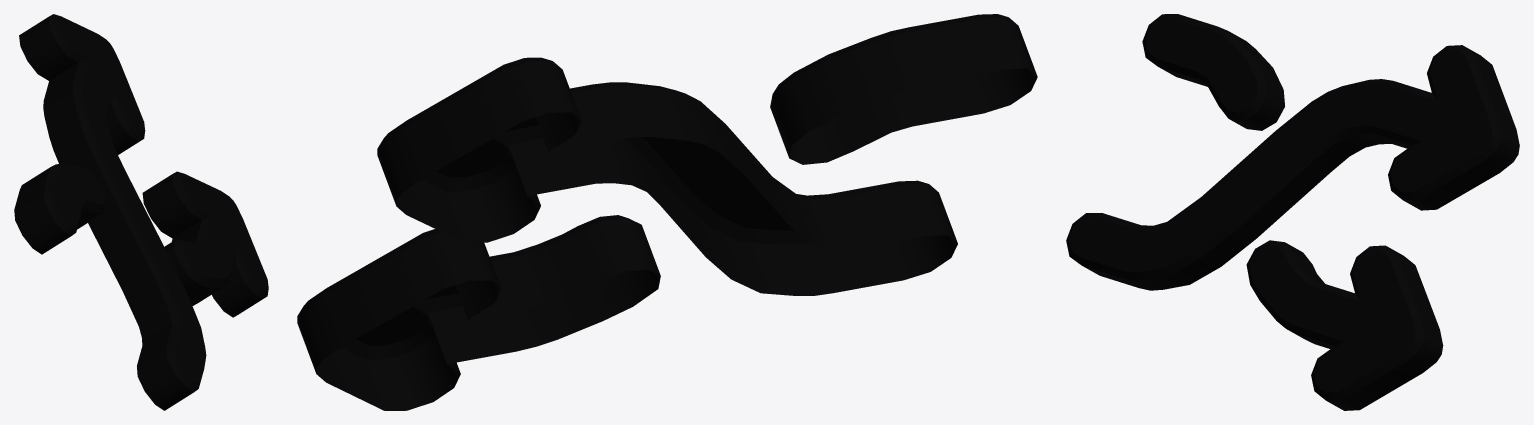
Rendered from booster_dice_arrows.fbx.
The picture shows the model from 3 angles, left to right: view 1: azimuth 30°, elevation 25°; view 2: azimuth 150°, elevation 25°; view 3: azimuth 270°, elevation 25°; orthographic projection. The views are drawn at different scales.
Visible parts, largest first — view 1: booster_dice_arrows; view 2: booster_dice_arrows; view 3: booster_dice_arrows.
Boxes of the visible parts, x1,y1,x2,y2 form: booster_dice_arrows: (14, 14, 268, 410); booster_dice_arrows: (297, 14, 1037, 410); booster_dice_arrows: (1066, 14, 1519, 410).
Bounding box in the file's own units: 128 × 106 × 146.
